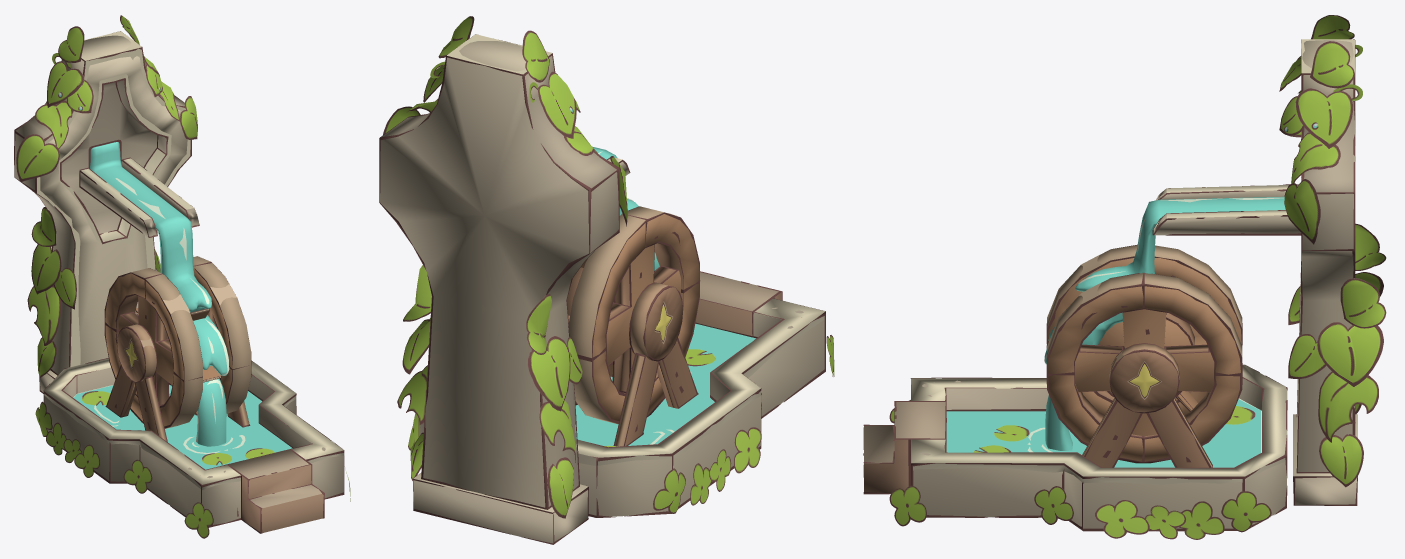
File: Mesh_Home_B_Idyll_8_SM.fbx
3 renders of one model, left to right at view 1: azimuth 30°, elevation 25°; view 2: azimuth 150°, elevation 25°; view 3: azimuth 270°, elevation 25°, orthographic. The views are drawn at different scales.
Visible parts, largest first — view 1: Mesh_Home_B_Idyll_8; view 2: Mesh_Home_B_Idyll_8; view 3: Mesh_Home_B_Idyll_8.
Boxes of the visible parts, bbox=[...] form: Mesh_Home_B_Idyll_8: bbox=[14, 15, 350, 538]; Mesh_Home_B_Idyll_8: bbox=[379, 16, 834, 544]; Mesh_Home_B_Idyll_8: bbox=[863, 15, 1386, 539].
Bounding box in the file's own units: 113 × 196 × 202.
